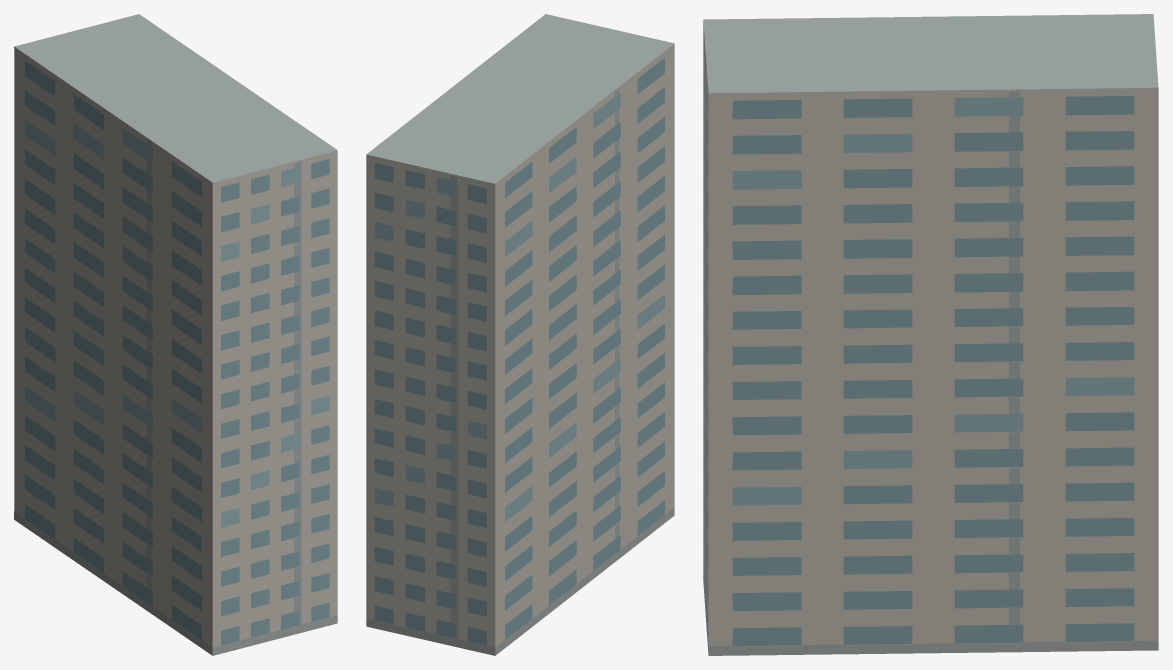
Rendered from residential-dc3ce5ff-20e6-49ec-b63b-7725598da174.glb.
3 views of the same model, side by side, from view 1: azimuth 30°, elevation 25°; view 2: azimuth 150°, elevation 25°; view 3: azimuth 270°, elevation 25° (orthographic). The views are drawn at different scales.
Parts seen in each view (by area): view 1: residential-dc3ce5ff-20e6-49ec-b63b-7725598da174.tmp; view 2: residential-dc3ce5ff-20e6-49ec-b63b-7725598da174.tmp; view 3: residential-dc3ce5ff-20e6-49ec-b63b-7725598da174.tmp.
Part boxes in pixels (x1=…): residential-dc3ce5ff-20e6-49ec-b63b-7725598da174.tmp: x1=14, y1=14, x2=337, y2=655; residential-dc3ce5ff-20e6-49ec-b63b-7725598da174.tmp: x1=366, y1=14, x2=674, y2=655; residential-dc3ce5ff-20e6-49ec-b63b-7725598da174.tmp: x1=703, y1=14, x2=1158, y2=655.
Bounding box in the file's own units: 20.54 × 68 × 49.85.
